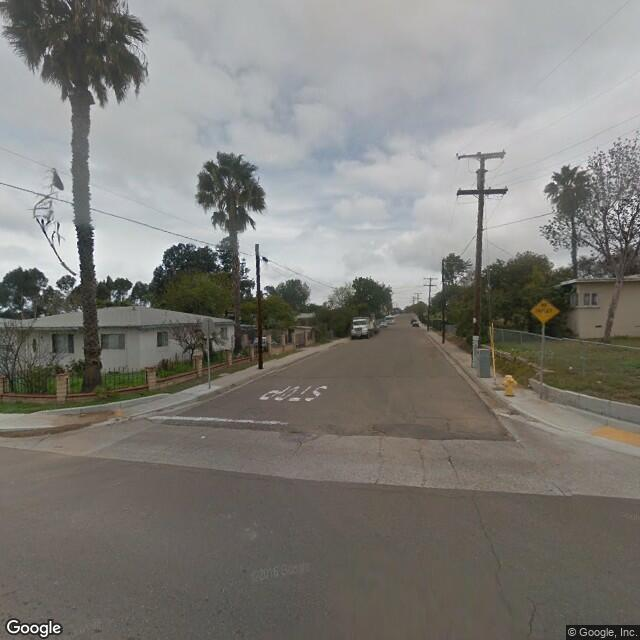litter: (197, 433, 204, 442)
